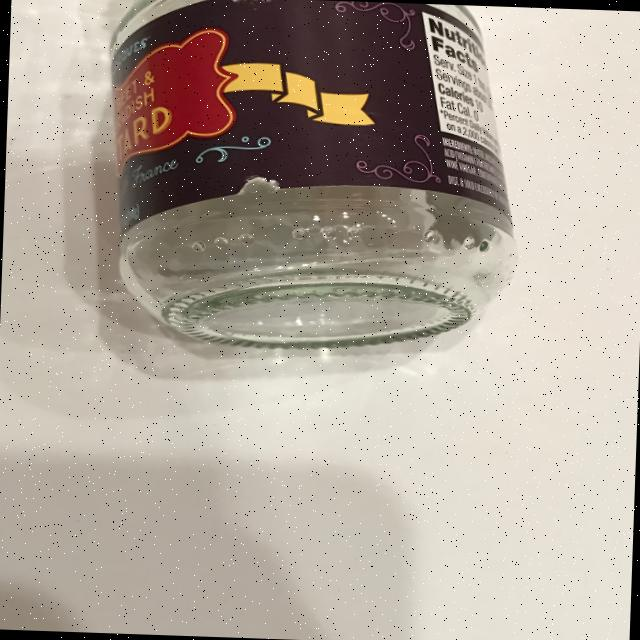glass: (98, 0, 526, 357)
